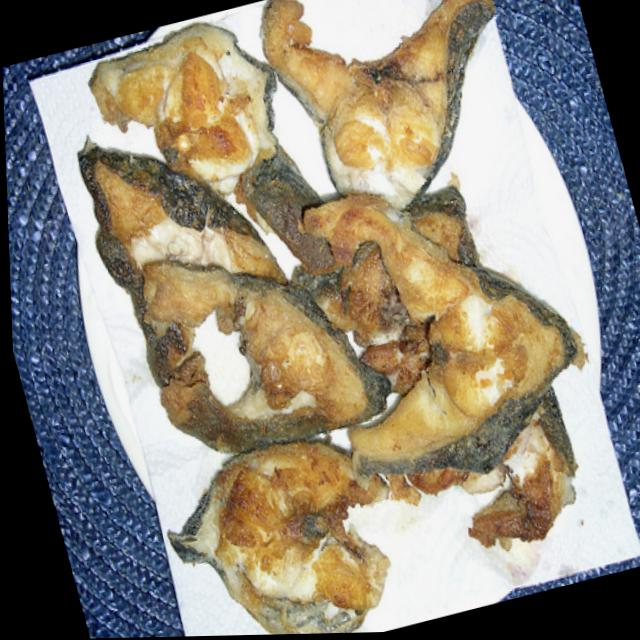炸货点心: (46, 0, 639, 639)
熟制海鲜: (46, 0, 639, 639)
